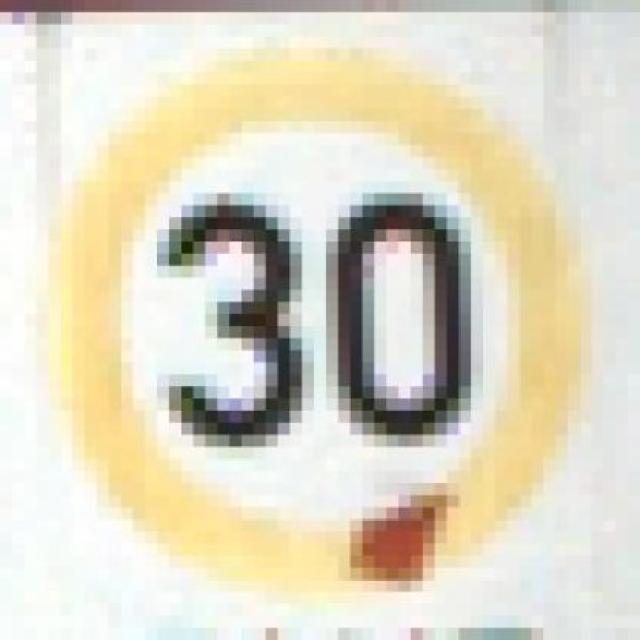Speed Limit 30 KMPh: (49, 36, 616, 604)
